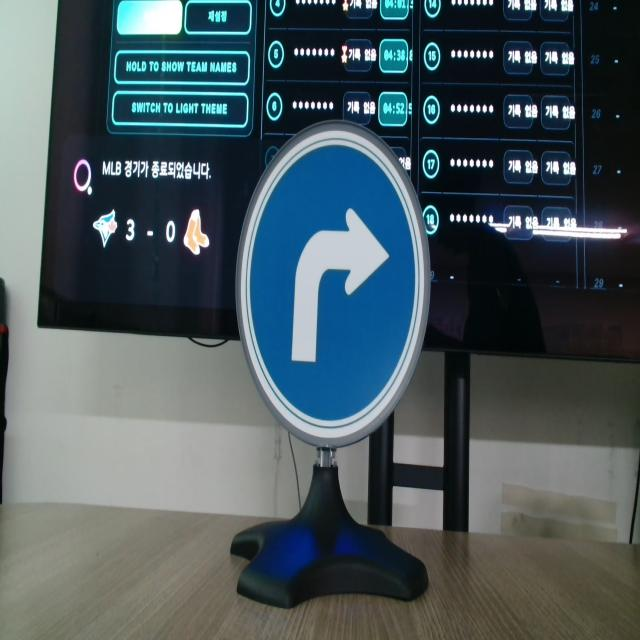right_dierection: (233, 120, 434, 459)
